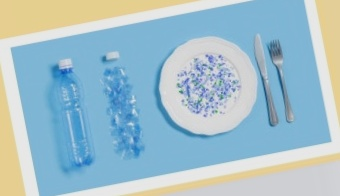plastic: (99, 51, 150, 164), (52, 58, 96, 175)
